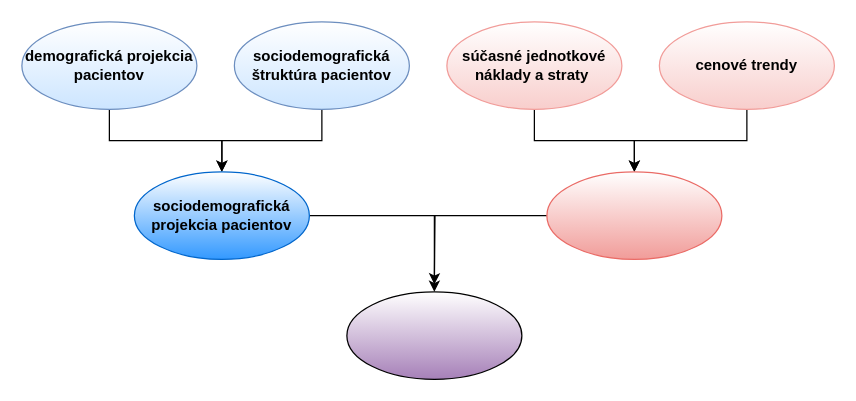
Some shapes in this 856 by 401 pixel diagram are drawn without their labels. Here are the shapes that lost their labels. From the top down, the box of each, then its label:
(546, 171, 722, 259): projekcia jednotkových nákladov a strát
(346, 291, 522, 379): projekcia celkových nákladov a strát
